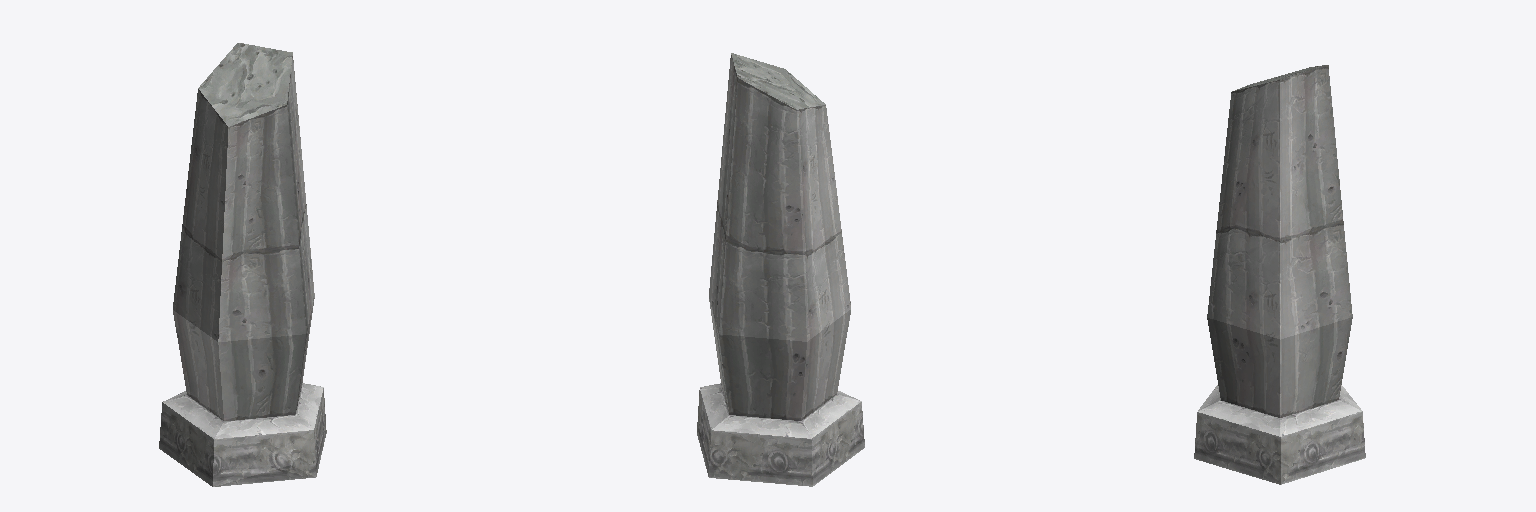
3 views of the same model, side by side, from view 1: azimuth 30°, elevation 25°; view 2: azimuth 150°, elevation 25°; view 3: azimuth 270°, elevation 25° (orthographic).
Parts seen in each view (by area): view 1: NewElfRuin03; view 2: NewElfRuin03; view 3: NewElfRuin03.
Boxes of the visible parts, box(x1,y1,x2,y2) form: NewElfRuin03: box(159, 43, 326, 486); NewElfRuin03: box(697, 53, 864, 486); NewElfRuin03: box(1194, 65, 1365, 484).
Bounding box in the file's own units: 7.14 × 18.69 × 7.48.
Materials: 3 (3 with a texture image).